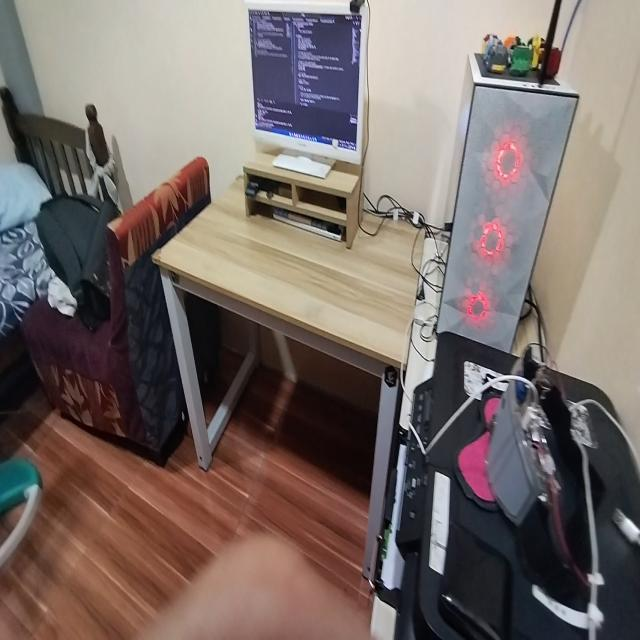table: (157, 166, 421, 527)
